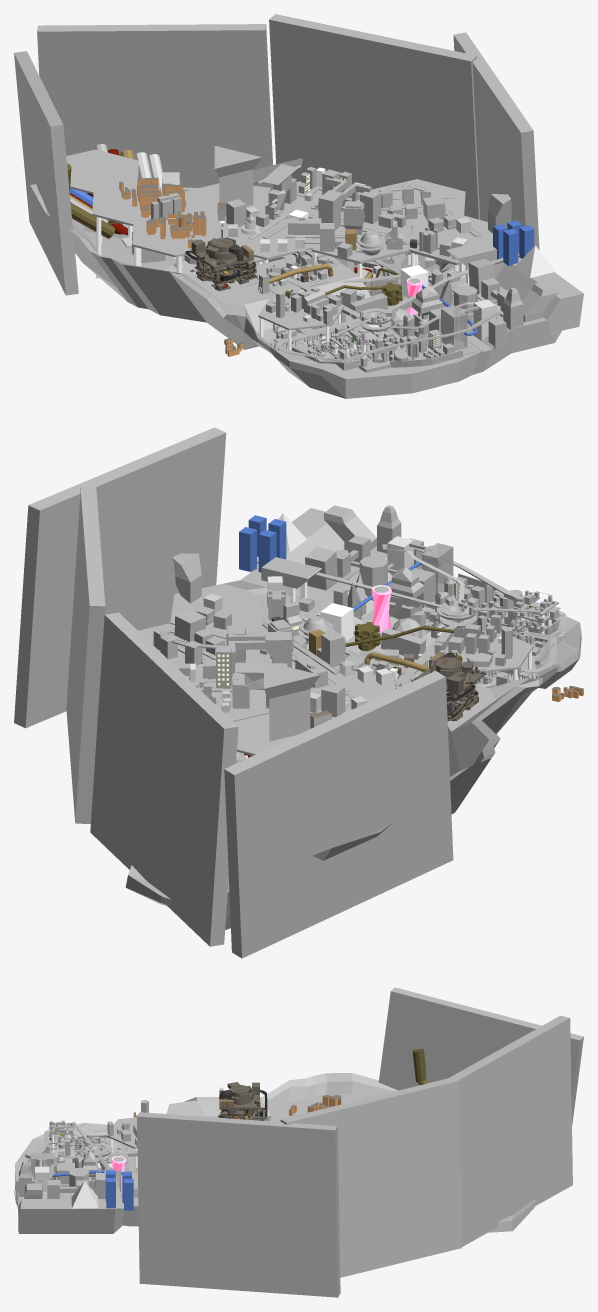
The model's file is megacitytwo1.gltf.
The picture shows the model from 3 angles, top to bottom: view 1: azimuth 30°, elevation 25°; view 2: azimuth 150°, elevation 25°; view 3: azimuth 270°, elevation 25°; orthographic projection. The views are drawn at different scales.
Visible parts, largest first — view 1: Cube.627, Cube.061, Cube.060, Cube.628, Cube.062, citybase, Cylinder.085, Cylinder.099, Cylinder.054, Cylinder.053, Cylinder.083, Cube.373 (+33 smaller); view 2: Cube.628, Cube.627, Cube.062, Cube.060, Cube.061, Cylinder.099, Cylinder.038, citybase, Cube.373, Cube.492, Cylinder.053, Cylinder.056 (+22 smaller); view 3: Cube.062, Cube.061, Cube.627, Cube.628, Cube.060, citybase, Cone.001, Cube.019, Cube.373, Cube.359, Cylinder.054, Cylinder.030 (+1 smaller).
Part boxes in pixels (x1,y1,x2,y2): Cube.627: (37,24,272,193); Cube.061: (269,14,480,219); Cube.060: (30,184,583,398); Cube.628: (14,51,78,295); Cube.062: (453,32,539,250); citybase: (185,237,257,291); Cylinder.085: (66,149,138,194); Cylinder.099: (214,146,261,206); Cylinder.054: (132,213,221,257); Cylinder.053: (222,216,313,259); Cylinder.083: (92,182,162,225); Cube.373: (242,272,500,360); Cube.628: (224,671,453,958); Cube.627: (90,612,238,946); Cube.062: (14,427,226,728); Cube.060: (125,508,581,929); Cube.061: (66,485,105,823); Cylinder.099: (264,661,320,741); Cylinder.038: (170,581,291,638); citybase: (411,652,485,721); Cube.373: (303,544,565,685); Cube.492: (227,627,291,677); Cylinder.053: (310,667,395,718); Cylinder.056: (234,714,310,755); Cube.062: (137,1112,340,1297); Cube.061: (280,1077,461,1277); Cube.627: (448,1015,572,1246); Cube.628: (378,987,583,1125); Cube.060: (15,1073,535,1233); citybase: (218,1082,267,1120); Cone.001: (71,1181,98,1208); Cube.019: (43,1180,88,1198); Cube.373: (28,1130,137,1195); Cube.359: (72,1122,123,1208); Cylinder.054: (284,1094,332,1117); Cylinder.030: (107,1117,137,1148).
Size of the model in its own units: 1940 by 995 by 2746.
